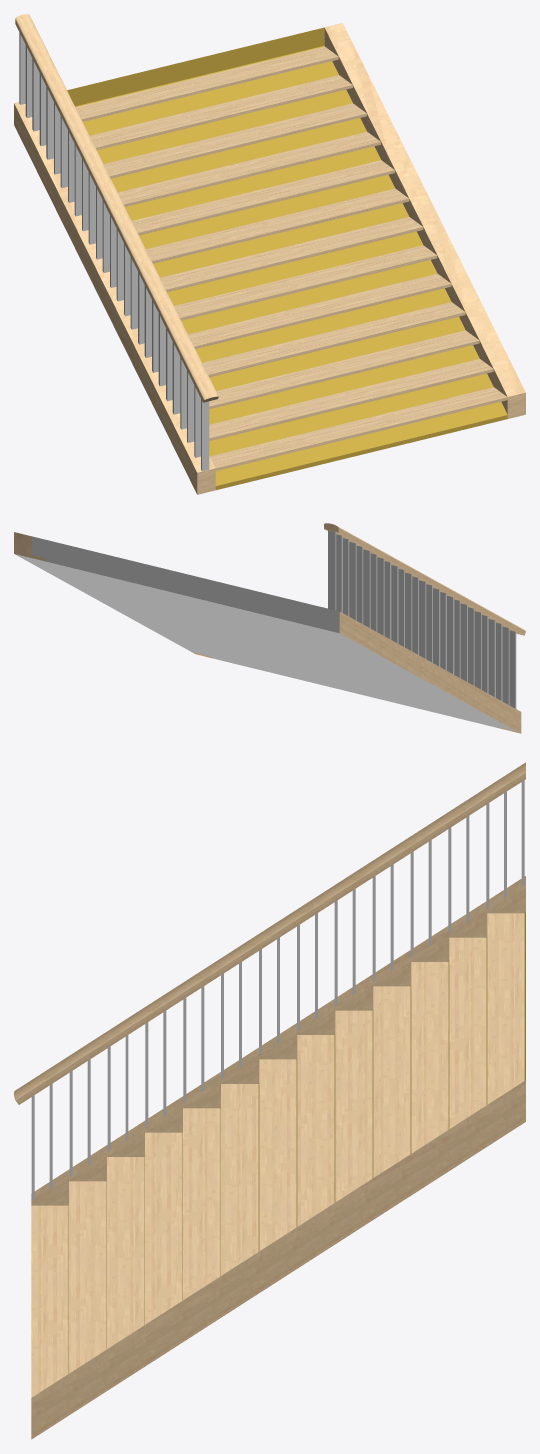
File: sh-contrib-staircase-straight.glb
3 views of the same model, one above another, from view 1: azimuth 30°, elevation 25°; view 2: azimuth 150°, elevation 25°; view 3: azimuth 270°, elevation 25° (orthographic). The views are drawn at different scales.
Visible parts, largest first — view 1: 9_9, 1_1, 27_27; view 2: 1_1, 27_27, 9_9; view 3: 9_9, 27_27, 1_1.
Part boxes in pixels (x1,y1,x2,y2): 9_9: (14, 14, 525, 494); 1_1: (67, 27, 507, 490); 27_27: (19, 32, 209, 471); 1_1: (15, 536, 515, 730); 27_27: (328, 530, 516, 708); 9_9: (14, 523, 525, 733); 9_9: (14, 762, 525, 1439); 27_27: (31, 780, 524, 1200); 1_1: (68, 912, 525, 1373).
Bounding box in the file's own units: 1 × 1 × 1.
4 materials, 1 textured.
